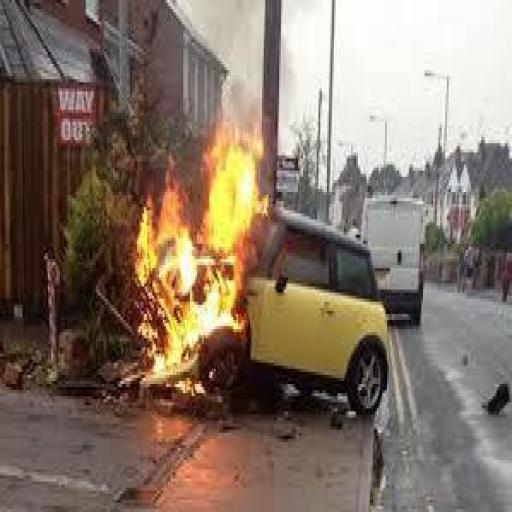fire: (115, 88, 279, 404)
